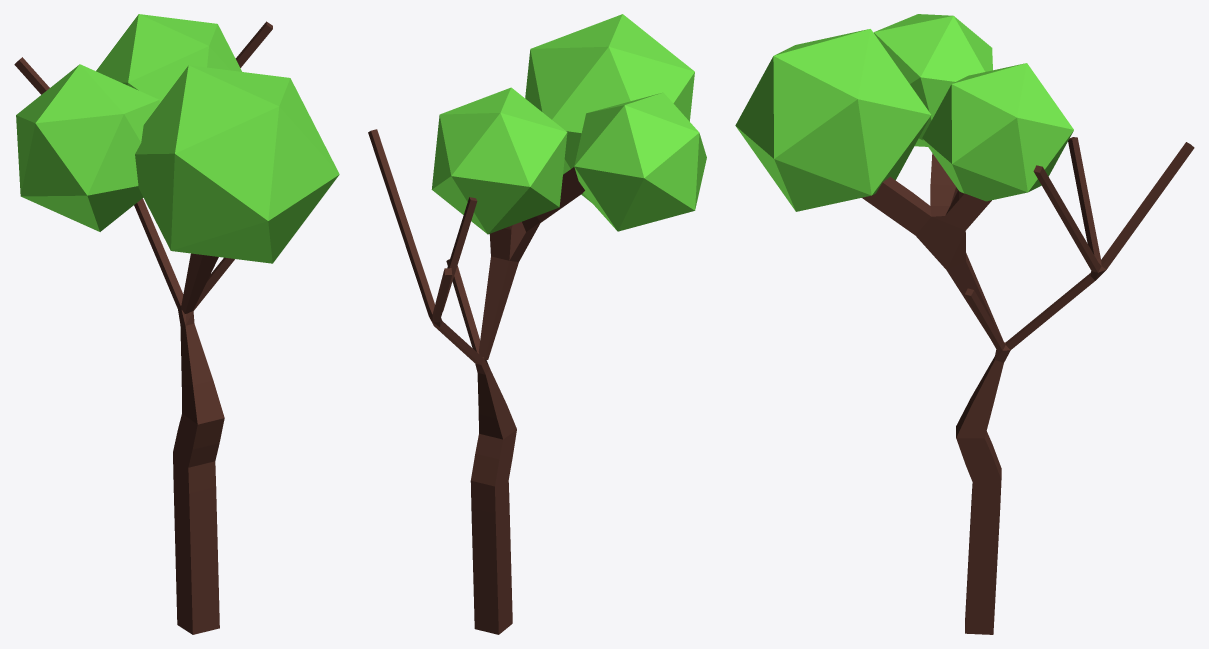
The model's file is Pohon-LowPoly4.fbx.
The picture shows the model from 3 angles, left to right: view 1: azimuth 30°, elevation 25°; view 2: azimuth 150°, elevation 25°; view 3: azimuth 270°, elevation 25°; orthographic projection. The views are drawn at different scales.
Parts seen in each view (by area): view 1: Icosphere.017, Icosphere.019, Cube.003, Icosphere.018; view 2: Cube.003, Icosphere.018, Icosphere.019, Icosphere.017; view 3: Icosphere.017, Cube.003, Icosphere.018, Icosphere.019.
Part boxes in pixels (bbox=[...]): Icosphere.017: bbox=[135, 65, 339, 263]; Icosphere.019: bbox=[16, 64, 159, 231]; Cube.003: bbox=[14, 21, 272, 634]; Icosphere.018: bbox=[96, 14, 241, 103]; Cube.003: bbox=[368, 129, 584, 634]; Icosphere.018: bbox=[431, 87, 567, 234]; Icosphere.019: bbox=[574, 92, 706, 231]; Icosphere.017: bbox=[525, 14, 694, 202]; Icosphere.017: bbox=[735, 29, 931, 211]; Cube.003: bbox=[862, 137, 1194, 634]; Icosphere.018: bbox=[922, 63, 1073, 201]; Icosphere.019: bbox=[873, 14, 992, 146].
Size of the model in its own units: 1356 by 2609 by 1908.
